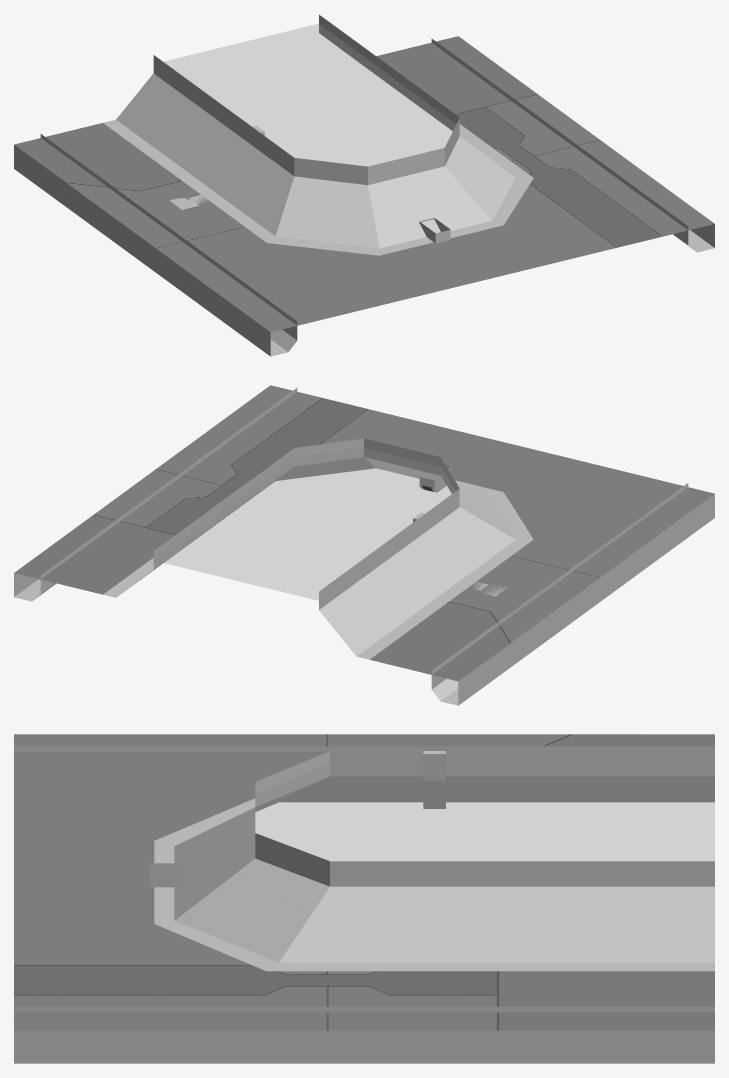
Rendered from SM_Ceiling_5x5_End_A.fbx.
The picture shows the model from 3 angles, top to bottom: view 1: azimuth 30°, elevation 25°; view 2: azimuth 150°, elevation 25°; view 3: azimuth 270°, elevation 25°; orthographic projection. The views are drawn at different scales.
Visible parts, largest first — view 1: SM_Ceiling_5x5_End_A; view 2: SM_Ceiling_5x5_End_A; view 3: SM_Ceiling_5x5_End_A.
Part boxes in pixels (box(x1,y1,x2,y2)): SM_Ceiling_5x5_End_A: box(14, 14, 714, 356); SM_Ceiling_5x5_End_A: box(14, 385, 714, 705); SM_Ceiling_5x5_End_A: box(14, 734, 714, 1063).
Bounding box in the file's own units: 500 × 86.12 × 500.
